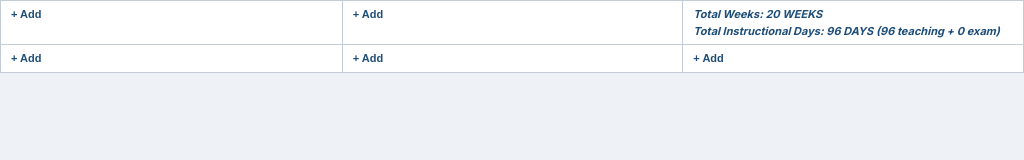
InfoStrip › reveals an end-date input and saves a range once Range is checked
Later steps or results of the test are not shown.
Click the 2nd button "+ Add" at (368, 14), box [353,6,383,22]
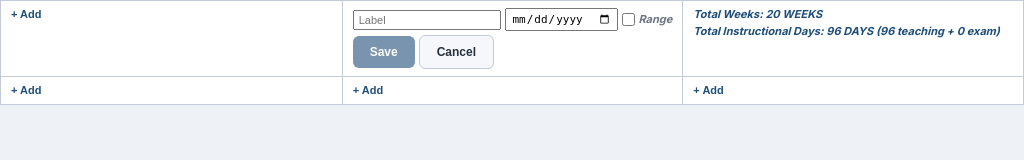
Type "Prototyping Phase 1" into the field with placeholder "Label" at (427, 20), box [353,10,502,30]
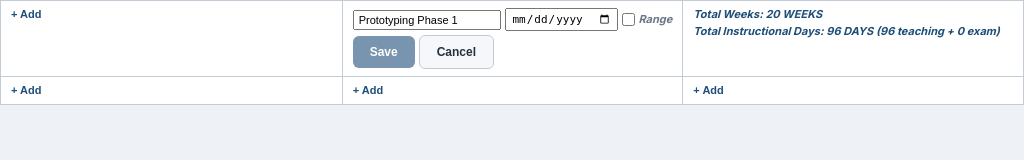
Type "2026-07-27" into the date field at (562, 20), box [505,8,618,31]
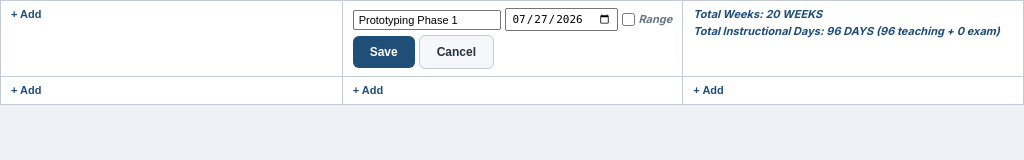
Now the number of date fields is 1, box [505,8,618,31]
Click the checkbox labelled "Range" at (629, 20), box [622,13,635,26]
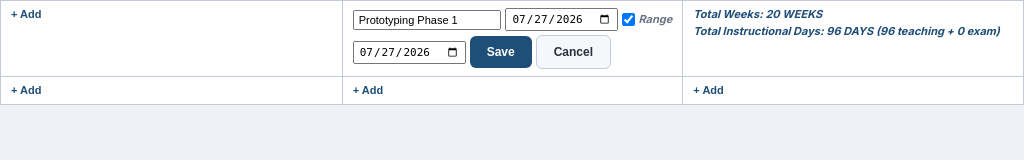
Now the number of date fields is 2, box [505,8,618,31]; [353,40,466,64]
